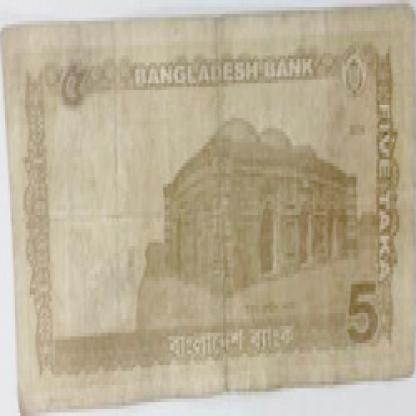Five Taka: (341, 264, 385, 368), (47, 45, 93, 128)
